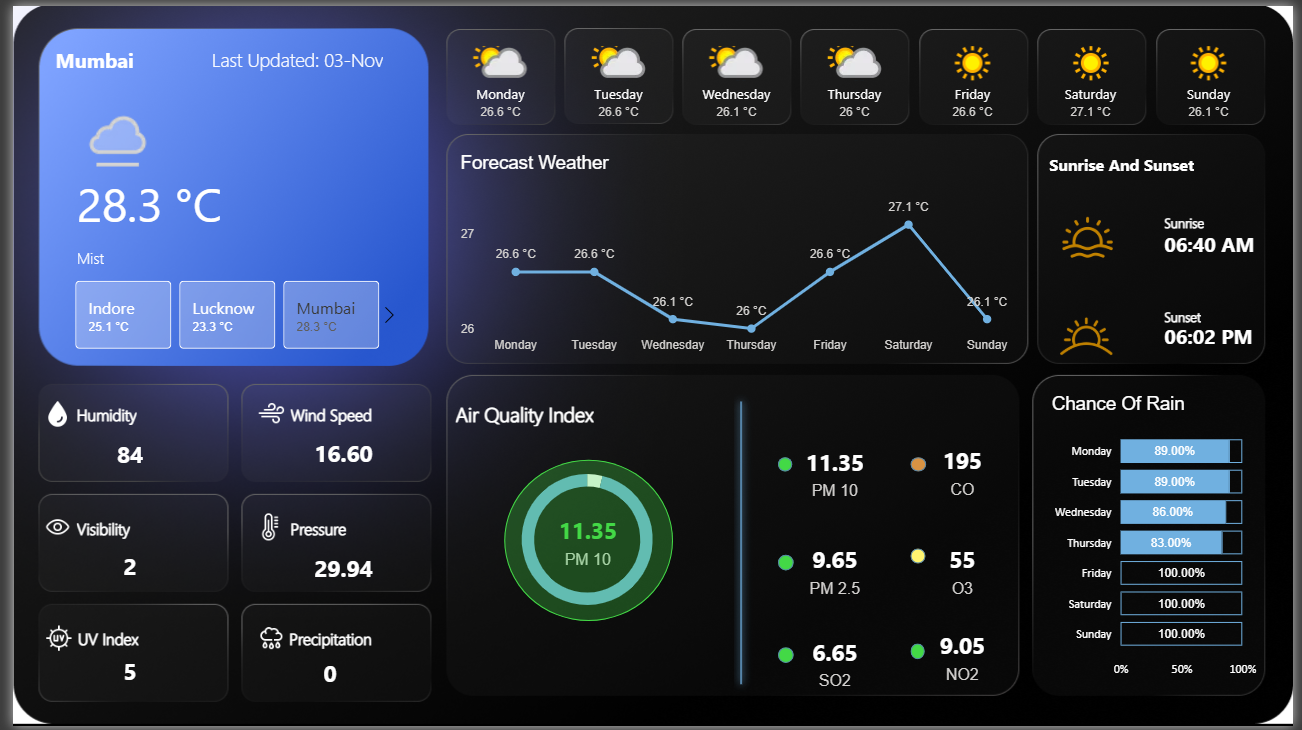

Layout of this report page (visuals, bound fields, positions):
{"tool":"powerbi","page":{"name":"Page 1","canvas":[1280,720],"ordinal":0},"visuals":[{"type":"advancedSlicerVisual","fields":{"Values":["Location.location.name"]},"box":[37.4,270.2,354.7,78.4],"z":0},{"type":"shape","box":[63.9,158,150.8,78.4],"z":1000},{"type":"shape","box":[63.9,231.6,194.2,38.6],"z":2000},{"type":"shape","box":[42.2,33.8,119.4,38.6],"z":3000},{"type":"shape","box":[199.1,33.8,193,38.6],"z":4000},{"type":"cardVisual","fields":{"Data":["Min(Current.current.condition.icon)"]},"box":[37.4,72.4,124.3,115.8],"z":5000},{"type":"shape","box":[63.9,388.5,70,38.6],"z":6000},{"type":"shape","box":[63.9,501.9,70,38.6],"z":7000},{"type":"shape","box":[65.1,612.9,70,38.6],"z":8000},{"type":"shape","box":[277.5,388.8,98.8,38.8],"z":9000},{"type":"shape","box":[277.5,501.9,70,38.6],"z":10000},{"type":"shape","box":[276.3,612.9,98.9,38.6],"z":11000},{"type":"image","box":[26.5,388.5,37.4,38.6],"z":12000},{"type":"image","box":[26.5,501.9,37.4,37.4],"z":13000},{"type":"image","box":[240.1,388.5,37.4,37.4],"z":14000},{"type":"image","box":[27.7,614.1,37.4,37.4],"z":15000},{"type":"image","box":[238.9,503.1,37.4,37.4],"z":16000},{"type":"image","box":[240.1,614.1,37.4,37.4],"z":17000},{"type":"card","fields":{"Values":["Sum(Current.current.humidity)"]},"box":[95.3,427.1,44.6,44.6],"z":18000},{"type":"card","fields":{"Values":["Sum(Current.current.vis_km)"]},"box":[95.3,540.5,44.6,44.6],"z":19000},{"type":"card","fields":{"Values":["Sum(Current.current.uv)"]},"box":[95.3,645.4,44.6,44.6],"z":20000},{"type":"card","fields":{"Values":["Sum(Current.current.wind_kph)"]},"box":[295.6,425.9,71.2,44.6],"z":21000},{"type":"card","fields":{"Values":["Sum(Current.current.pressure_in)"]},"box":[295.6,541.7,71.2,44.6],"z":22000},{"type":"card","fields":{"Values":["Sum(Current.current.precip_in)"]},"box":[295.6,646.7,44.6,44.6],"z":23000},{"type":"advancedSlicerVisual","fields":{"Values":["Forecast_Day.Day Name"]},"box":[427.1,33.8,831.2,96.5],"z":24000},{"type":"lineChart","title":"Forecast Weather","fields":{"Category":["Forecast_Day.Day Name"],"Y":["Sum(Forecast_Day.forecast.forecastday.day.avgtemp_c)"]},"box":[442.8,146,568.2,208.7],"z":25000},{"type":"shape","box":[1036.3,138.7,155.6,38.6],"z":26000},{"type":"shape","box":[1150.9,217.2,107.4,38.6],"z":27000},{"type":"shape","box":[1150.9,310.1,107.4,38.6],"z":28000},{"type":"shape","box":[1150.9,197.9,70,38.6],"z":29000},{"type":"shape","box":[1150.9,290.8,70,38.6],"z":30000},{"type":"image","box":[1033.9,284.7,79.6,90.5],"z":31000},{"type":"image","box":[1035.1,201.5,78.4,60.3],"z":32000},{"type":"hundredPercentStackedBarChart","title":"Chance Of Rain","fields":{"Category":["Forecast_Day.Day Name"],"Y":["Sum(Forecast_Day.forecast.forecastday.day.daily_chance_of_rain)","_Measures.Left_value_rain"]},"box":[1033.9,387.3,214.7,293.2],"z":33000},{"type":"card","fields":{"Values":["Sum(Current.current.air_quality.co)"]},"box":[912.9,428.7,74.1,72.6],"z":33001},{"type":"card","fields":{"Values":["Sum(Current.current.air_quality.o3)"]},"box":[912.9,526.9,74.1,72.6],"z":33002},{"type":"card","fields":{"Values":["Sum(Current.current.air_quality.no2)"]},"box":[912.9,613.8,74.1,72.6],"z":33003},{"type":"card","fields":{"Values":["Sum(Current.current.air_quality.pm10)"]},"box":[780.4,430.1,84,72.6],"z":33004},{"type":"card","fields":{"Values":["Sum(Current.current.air_quality.pm2_5)"]},"box":[780.4,526.9,84,72.6],"z":33005},{"type":"card","fields":{"Values":["Sum(Current.current.air_quality.so2)"]},"box":[780.4,619.5,84,72.6],"z":33006},{"type":"shape","box":[764.8,451.4,14.2,14.2],"z":33007},{"type":"shape","box":[897.2,451.4,15.7,14.2],"z":33008},{"type":"shape","box":[897,542.6,15,15],"z":33009},{"type":"shape","box":[897.2,638,14.2,15.7],"z":33010},{"type":"shape","box":[764.8,548.3,15.7,15.7],"z":33011},{"type":"shape","box":[764.8,640.9,15.7,15.7],"z":33012},{"type":"shape","box":[716.2,387.5,23.8,298.8],"z":33013},{"type":"card","fields":{"Values":["Sum(Current.current.air_quality.pm10)"]},"box":[538.8,505,72.5,60],"z":33014},{"type":"donutChart","fields":{"Y":["Sum(Current.current.air_quality.pm10)","_Measures.Left value PM10"]},"box":[487.5,438.8,173.8,190],"z":33015},{"type":"shape","box":[491.2,453.8,168.8,161.2],"z":33016},{"type":"shape","box":[442.5,387.5,177.5,38.8],"z":33017}]}

Visuals, with their boxes in screenshot pixels (x1, y1, x2, y2), scaled from the page's 1280x720 canvas onto the 1302x730 screenshot:
advancedSlicerVisual - Location.location.name: 38, 274, 399, 353
shape: 65, 160, 218, 240
shape: 65, 235, 263, 274
shape: 43, 34, 164, 73
shape: 203, 34, 399, 73
cardVisual - Min(Current.current.condition.icon): 38, 73, 164, 191
shape: 65, 394, 136, 433
shape: 65, 509, 136, 548
shape: 66, 621, 137, 661
shape: 282, 394, 383, 434
shape: 282, 509, 353, 548
shape: 281, 621, 382, 661
image: 27, 394, 65, 433
image: 27, 509, 65, 547
image: 244, 394, 282, 432
image: 28, 623, 66, 661
image: 243, 510, 281, 548
image: 244, 623, 282, 661
card - Sum(Current.current.humidity): 97, 433, 142, 478
card - Sum(Current.current.vis_km): 97, 548, 142, 593
card - Sum(Current.current.uv): 97, 654, 142, 700
card - Sum(Current.current.wind_kph): 301, 432, 373, 477
card - Sum(Current.current.pressure_in): 301, 549, 373, 594
card - Sum(Current.current.precip_in): 301, 656, 346, 701
advancedSlicerVisual - Forecast_Day.Day Name: 434, 34, 1280, 132
"Forecast Weather" lineChart: 450, 148, 1028, 360
shape: 1054, 141, 1212, 180
shape: 1171, 220, 1280, 259
shape: 1171, 314, 1280, 354
shape: 1171, 201, 1242, 240
shape: 1171, 295, 1242, 334
image: 1052, 289, 1133, 380
image: 1053, 204, 1133, 265
"Chance Of Rain" hundredPercentStackedBarChart: 1052, 393, 1270, 690
card - Sum(Current.current.air_quality.co): 929, 435, 1004, 508
card - Sum(Current.current.air_quality.o3): 929, 534, 1004, 608
card - Sum(Current.current.air_quality.no2): 929, 622, 1004, 696
card - Sum(Current.current.air_quality.pm10): 794, 436, 879, 510
card - Sum(Current.current.air_quality.pm2_5): 794, 534, 879, 608
card - Sum(Current.current.air_quality.so2): 794, 628, 879, 702
shape: 778, 458, 792, 472
shape: 913, 458, 929, 472
shape: 912, 550, 928, 565
shape: 913, 647, 927, 663
shape: 778, 556, 794, 572
shape: 778, 650, 794, 666
shape: 729, 393, 753, 696
card - Sum(Current.current.air_quality.pm10): 548, 512, 622, 573
donutChart - Sum(Current.current.air_quality.pm10) x _Measures.Left value PM10: 496, 445, 673, 638
shape: 500, 460, 671, 624
shape: 450, 393, 631, 432
